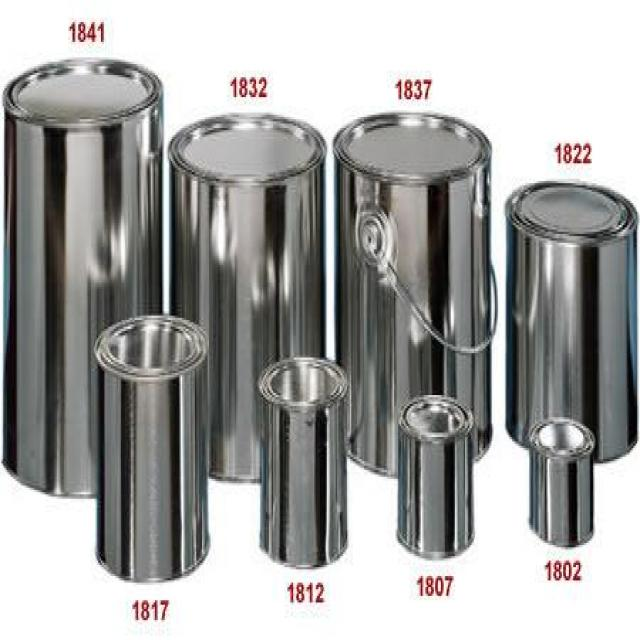metel: (3, 55, 180, 516), (163, 91, 335, 506), (337, 87, 499, 480), (504, 179, 640, 470), (92, 313, 216, 589), (253, 352, 359, 572), (392, 390, 482, 565), (527, 418, 603, 553)
